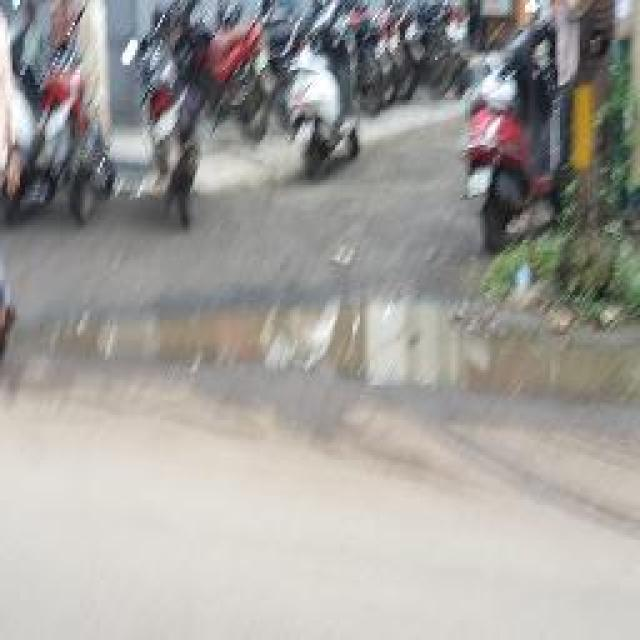waterlogging: (59, 268, 640, 412)
